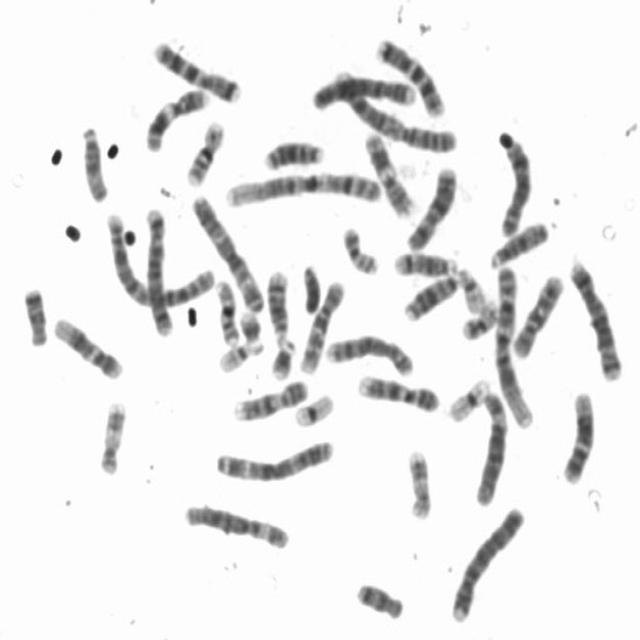A1: (489, 259, 537, 431), (220, 164, 384, 210)
A2: (325, 62, 461, 155), (101, 205, 215, 311)
A3: (186, 187, 268, 315), (210, 432, 336, 484)
B4: (445, 498, 528, 625), (307, 69, 419, 112)
B5: (566, 252, 626, 382), (141, 199, 176, 338)
C10: (506, 266, 566, 361), (296, 274, 348, 376)
C11: (359, 125, 417, 219), (140, 81, 210, 153)
C12: (48, 308, 126, 382), (558, 385, 597, 486)
C6: (180, 496, 294, 552), (470, 384, 510, 509)
C7: (148, 33, 245, 106), (373, 30, 448, 119)
C8: (322, 327, 417, 378), (492, 125, 534, 238)
C9: (229, 372, 311, 422), (352, 368, 441, 414)
D13: (398, 264, 464, 323), (260, 131, 328, 171)
D14: (389, 244, 462, 278), (262, 264, 293, 342)
D15: (485, 213, 552, 270), (77, 118, 111, 204)
E16: (182, 113, 228, 188), (211, 274, 243, 348)
E17: (93, 393, 127, 478), (402, 442, 435, 522)
E18: (351, 576, 406, 622), (18, 280, 51, 348)
F19: (442, 372, 492, 424), (290, 386, 336, 429)
F20: (337, 218, 382, 277), (458, 294, 502, 341)
G21: (266, 332, 298, 382), (235, 302, 265, 351)
G22: (214, 335, 266, 374), (455, 261, 490, 315)
X: (399, 160, 458, 253)
Y: (298, 258, 323, 314)
